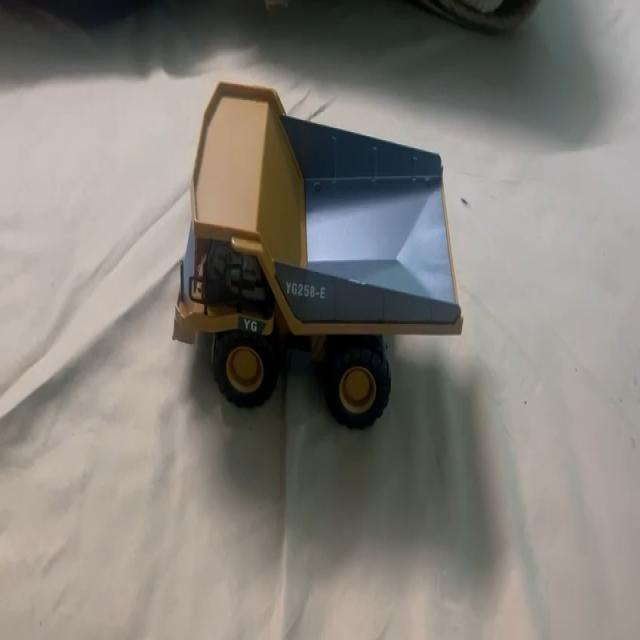dump_truck: (171, 80, 464, 428)
